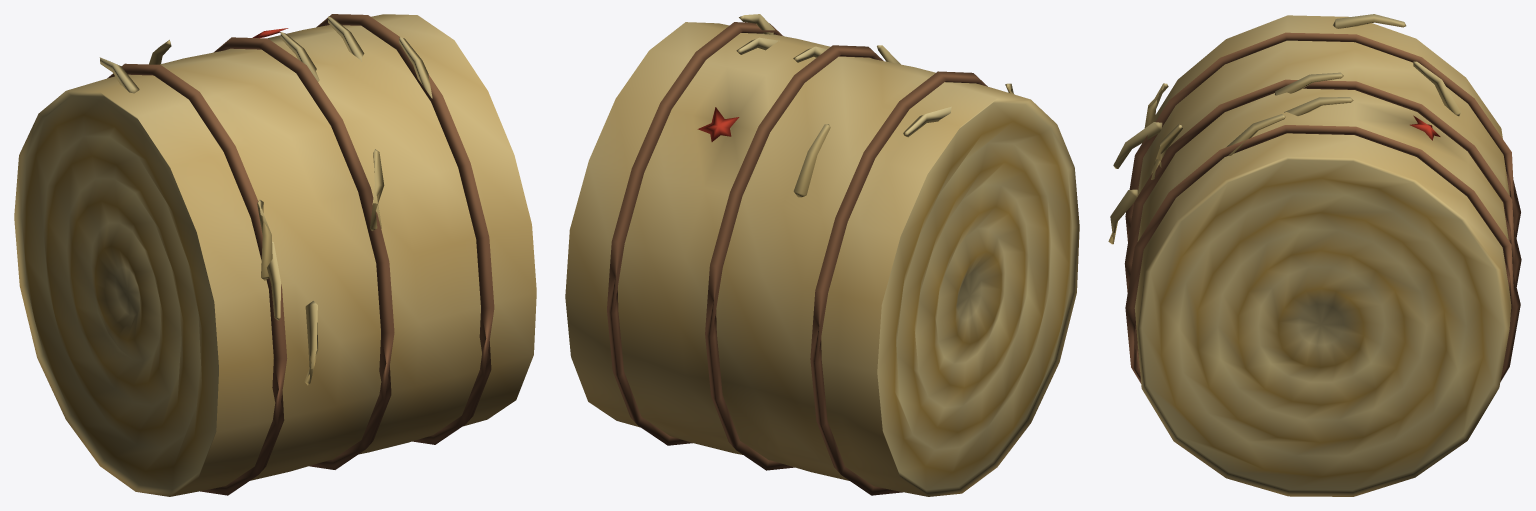
Rendered from rg-maple-bale-v1.glb.
3 views of the same model, side by side, from view 1: azimuth 30°, elevation 25°; view 2: azimuth 150°, elevation 25°; view 3: azimuth 270°, elevation 25° (orthographic). The views are drawn at different scales.
Parts seen in each view (by area): view 1: body; view 2: body; view 3: body.
Boxes of the visible parts, x1,y1,x2,y2 form: body: [14, 14, 536, 496]; body: [565, 14, 1079, 496]; body: [1108, 14, 1521, 496].
Bounding box in the file's own units: 0.9708 × 1.17 × 1.18.
